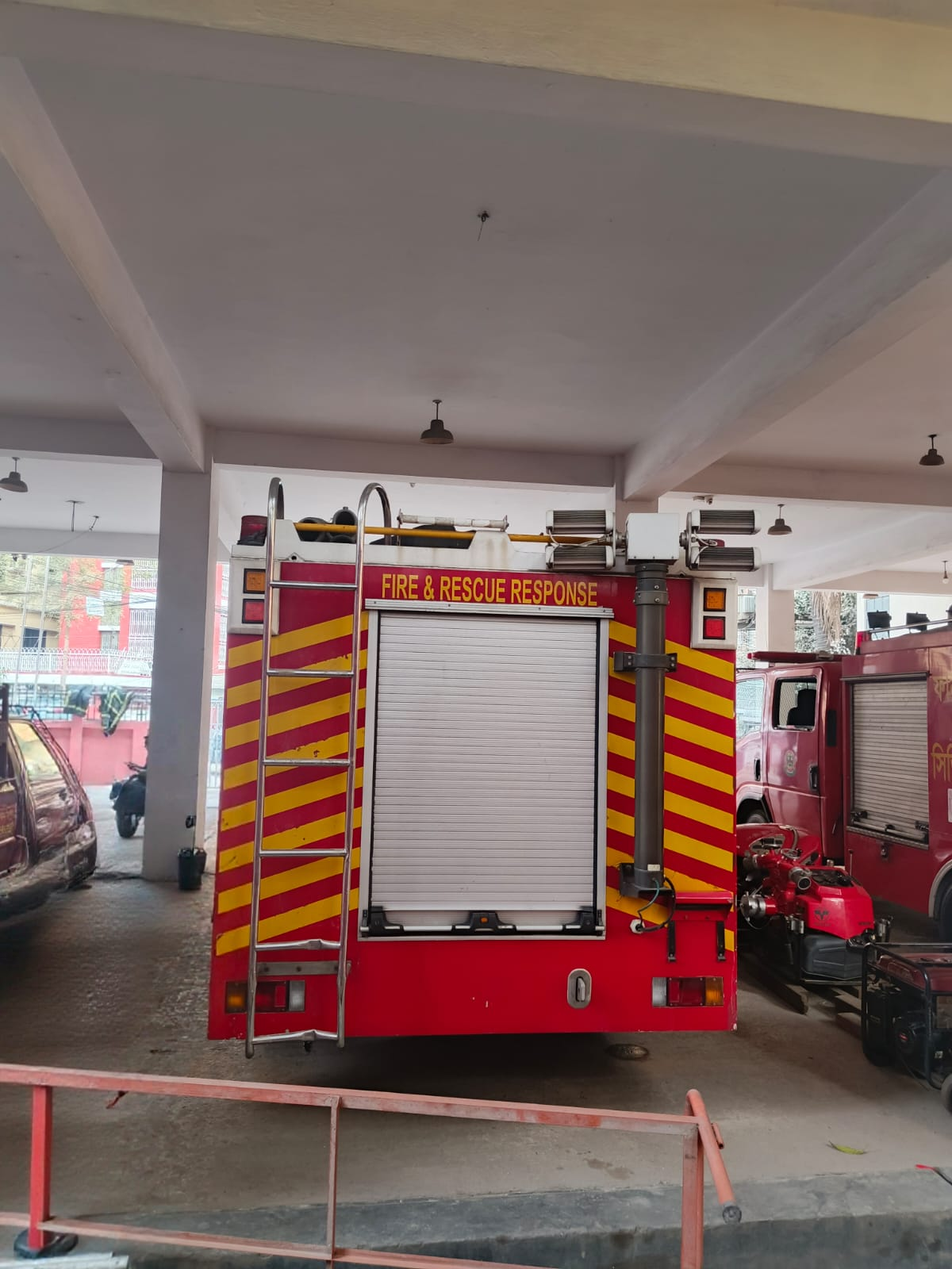Fire truck: (185, 384, 850, 1191)
